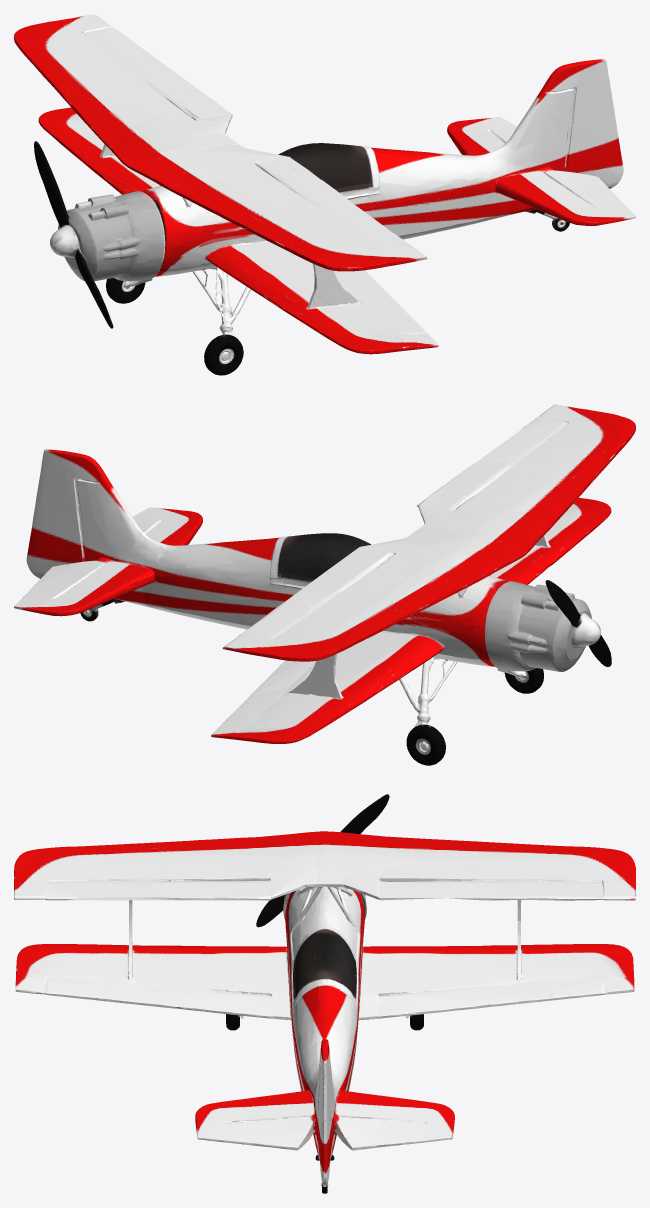
File: flugzeug.glb
The picture shows the model from 3 angles, top to bottom: view 1: azimuth 30°, elevation 25°; view 2: azimuth 150°, elevation 25°; view 3: azimuth 270°, elevation 25°; orthographic projection. The views are drawn at different scales.
Size of the model in its own units: 1.89 by 0.627 by 1.9.
Materials: 1 (1 with a texture image).
